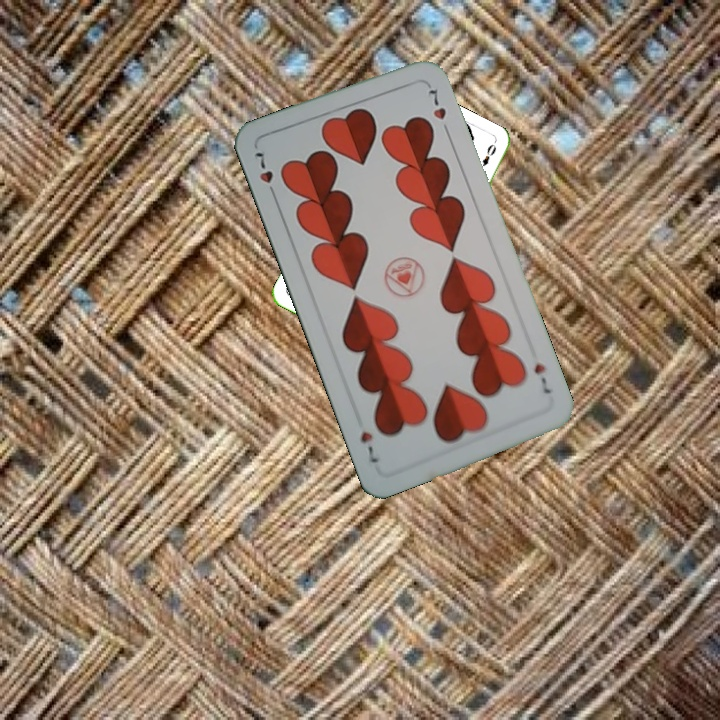H7: (250, 147, 280, 202), (530, 359, 554, 397)
